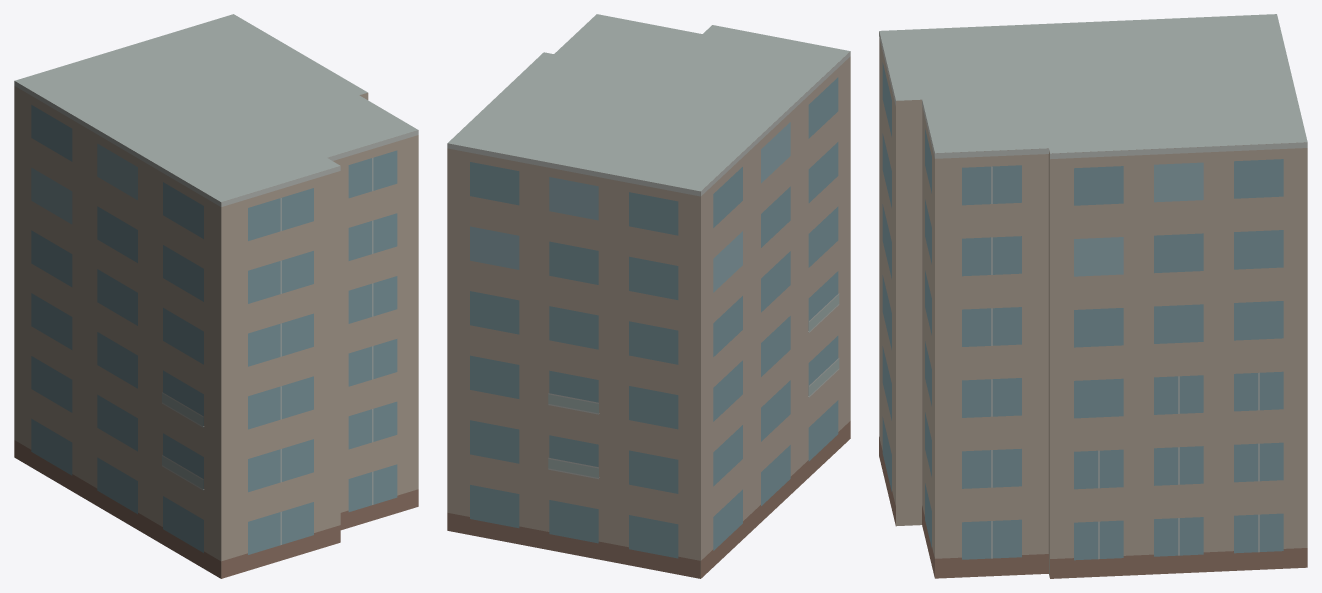
The model's file is survey-upis-32755194.glb.
The picture shows the model from 3 angles, left to right: view 1: azimuth 30°, elevation 25°; view 2: azimuth 150°, elevation 25°; view 3: azimuth 270°, elevation 25°; orthographic projection. The views are drawn at different scales.
Parts seen in each view (by area): view 1: survey-upis-32755194.tmp; view 2: survey-upis-32755194.tmp; view 3: survey-upis-32755194.tmp.
Boxes of the visible parts, bbox=[...] form: survey-upis-32755194.tmp: bbox=[14, 14, 418, 578]; survey-upis-32755194.tmp: bbox=[447, 14, 850, 578]; survey-upis-32755194.tmp: bbox=[879, 14, 1307, 578].
Size of the model in its own units: 12.95 by 18.4 by 16.81.
